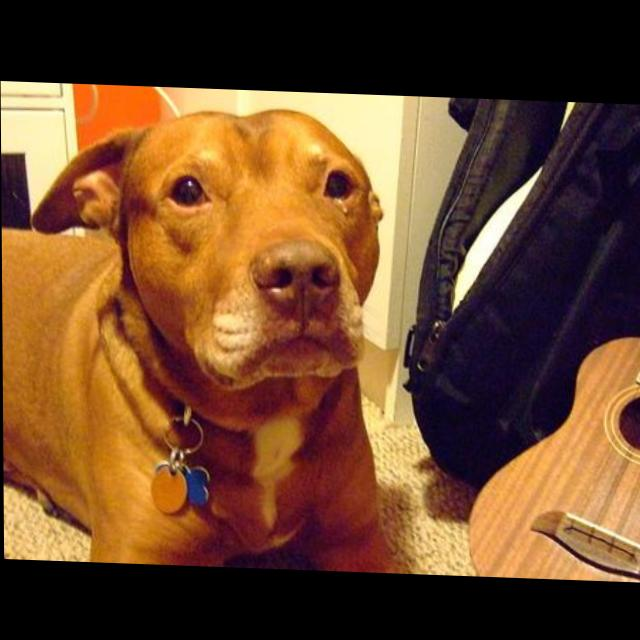amstaff: (2, 98, 408, 572)
